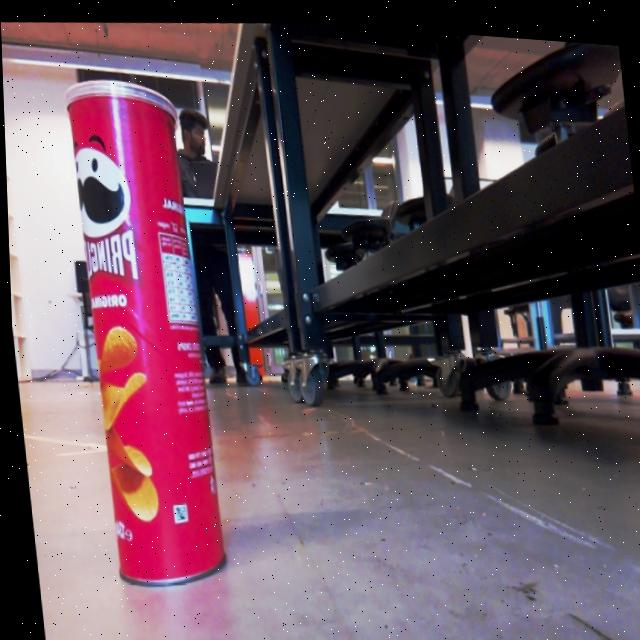redpringles: (41, 54, 245, 620)
